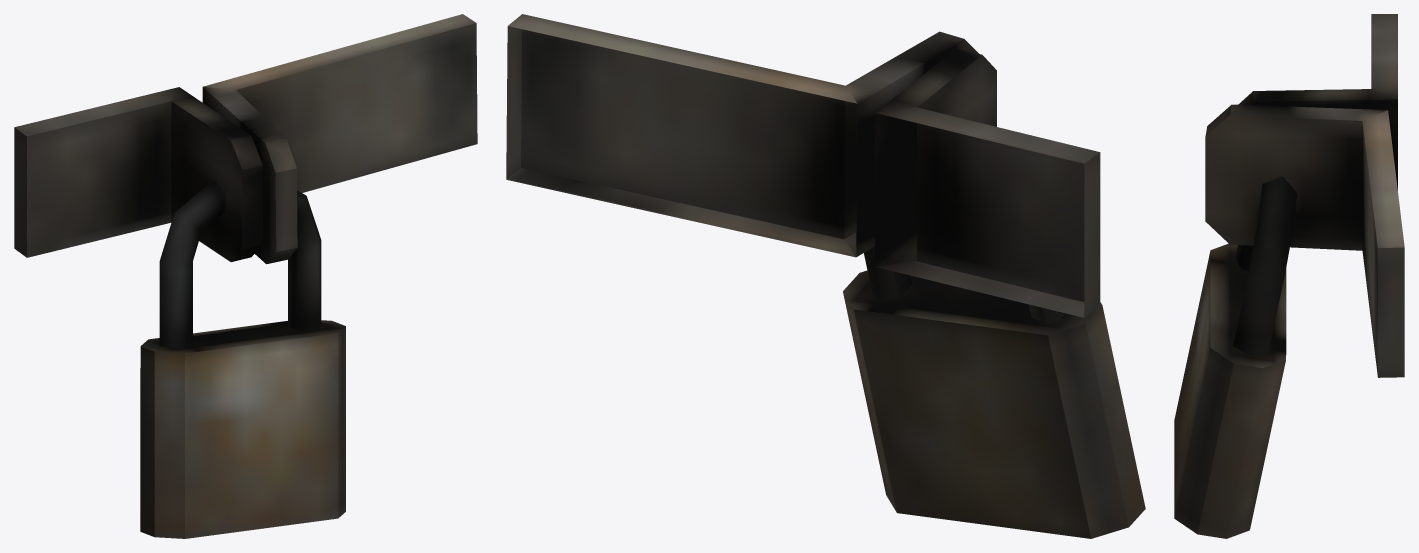
File: DoorLock_T02.FBX
The picture shows the model from 3 angles, left to right: view 1: azimuth 30°, elevation 25°; view 2: azimuth 150°, elevation 25°; view 3: azimuth 270°, elevation 25°; orthographic projection. The views are drawn at different scales.
Visible parts, largest first — view 1: DoorLock_T02; view 2: DoorLock_T02; view 3: DoorLock_T02.
Part boxes in pixels (x1,y1,x2,y2): DoorLock_T02: (14,14,477,538); DoorLock_T02: (506,14,1145,538); DoorLock_T02: (1174,14,1404,538).
Bounding box in the file's own units: 22.68 × 18.16 × 9.38.
